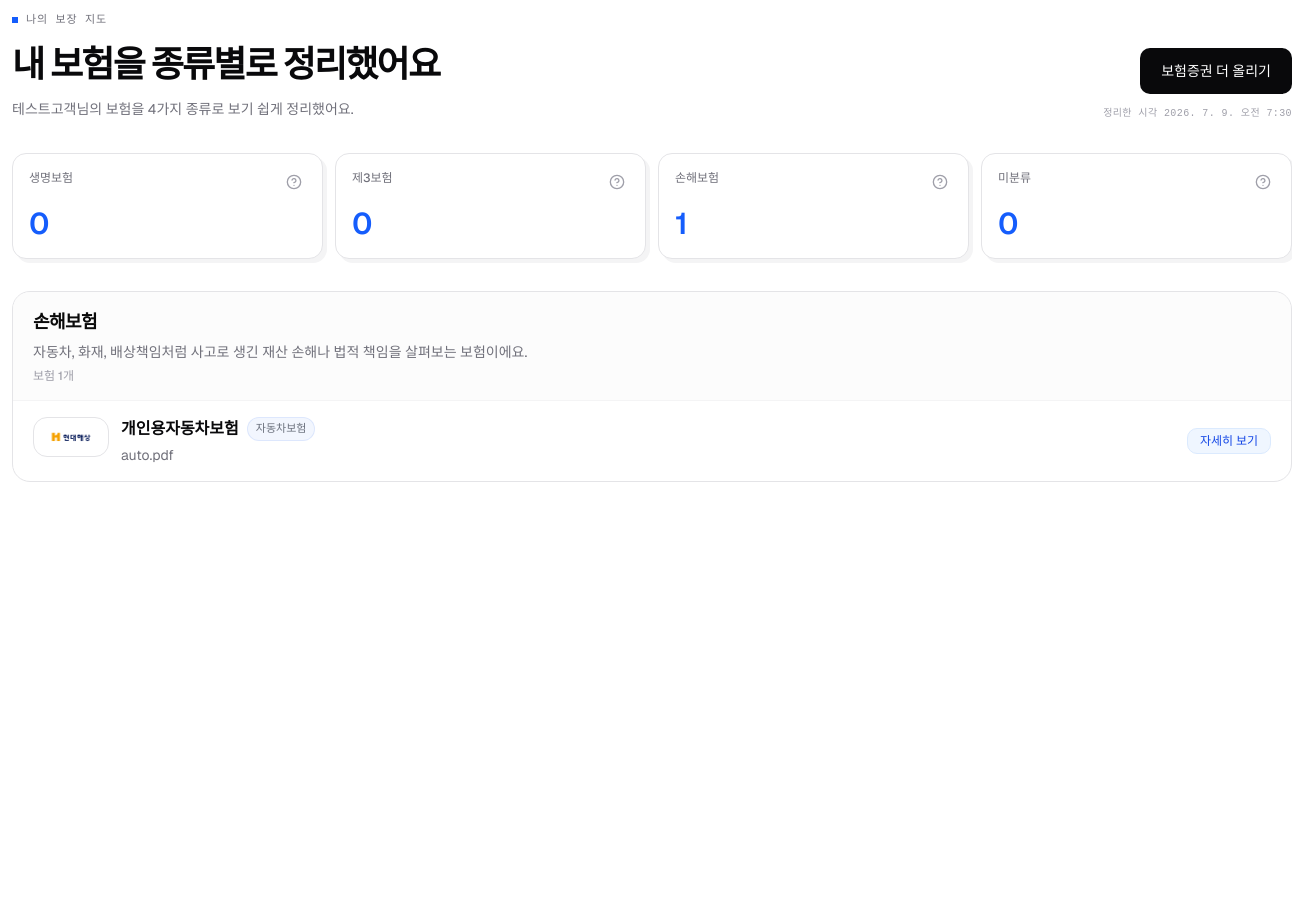
Scenario: PolicyOverview › shows vehicle info and separates rider rows for an auto policy
Click the button "개인용자동차보험 자동차보험 auto.pdf 자세히 보기": coordinates (71, 436) [13, 400, 1291, 480]
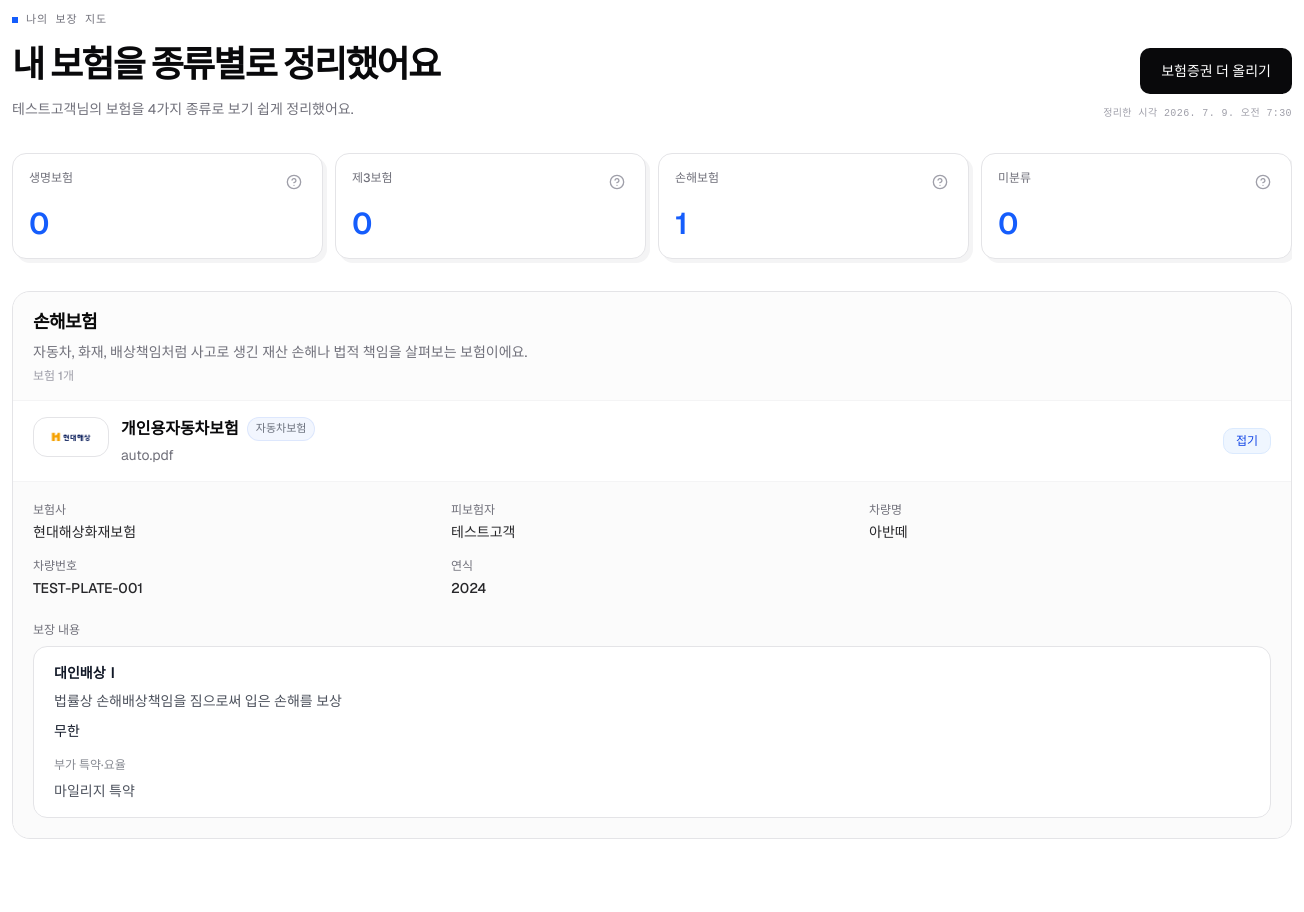
Expected: the text "차량명" is shown, [869, 502, 902, 518]
Expected: the text "아반떼" is shown, [869, 522, 908, 540]
Expected: the text "차량번호" is shown, [33, 558, 77, 574]
